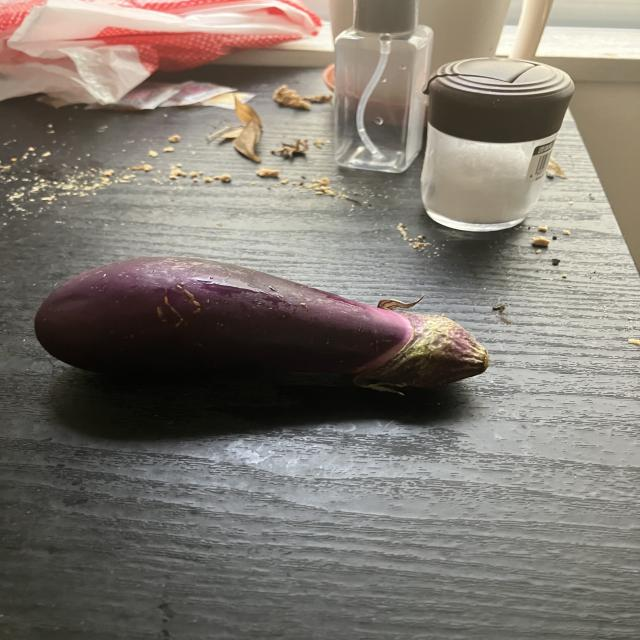eggplant: (32, 254, 493, 394)
